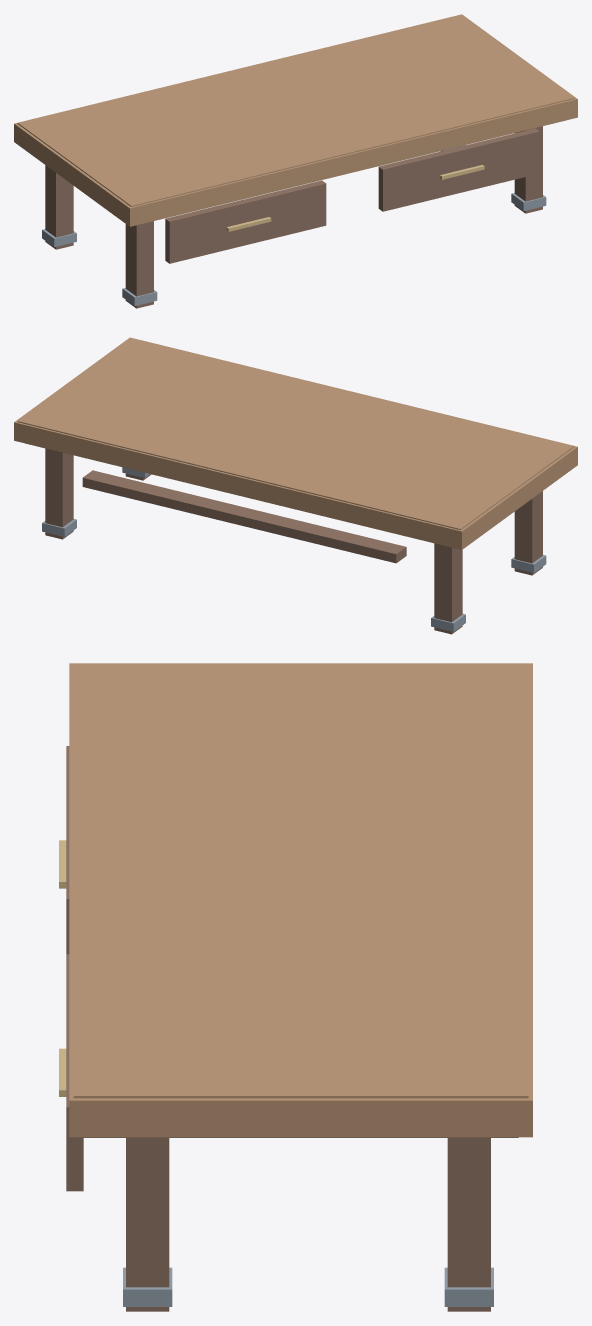
The model's file is desk.gltf.
The picture shows the model from 3 angles, top to bottom: view 1: azimuth 30°, elevation 25°; view 2: azimuth 150°, elevation 25°; view 3: azimuth 270°, elevation 25°; orthographic projection. The views are drawn at different scales.
Visible parts, largest first — view 1: Warm beveled edge, Drawer front (×2), Walnut slab, Desk leg (×3); view 2: Warm beveled edge, Walnut slab, Cable shelf, Desk leg (×3); view 3: Warm beveled edge, Walnut slab, Desk leg (×2), Drawer front (×2), Steel leg foot (×2).
Boxes of the visible parts, left/top/right/bottom form: Warm beveled edge: left=17, top=14, right=574, bottom=206; Drawer front (×2): left=165, top=128, right=539, bottom=263; Walnut slab: left=14, top=14, right=577, bottom=226; Desk leg (×3): left=45, top=126, right=542, bottom=308; Warm beveled edge: left=17, top=338, right=574, bottom=529; Walnut slab: left=14, top=337, right=577, bottom=549; Cable shelf: left=82, top=470, right=406, bottom=563; Desk leg (×3): left=45, top=448, right=542, bottom=634; Warm beveled edge: left=73, top=663, right=528, bottom=1098; Walnut slab: left=69, top=663, right=532, bottom=1137; Desk leg (×2): left=126, top=1138, right=490, bottom=1311; Drawer front (×2): left=66, top=746, right=83, bottom=1191; Steel leg foot (×2): left=123, top=1267, right=493, bottom=1306.
Size of the model in its own units: 3.57 by 0.8885 by 1.64.
